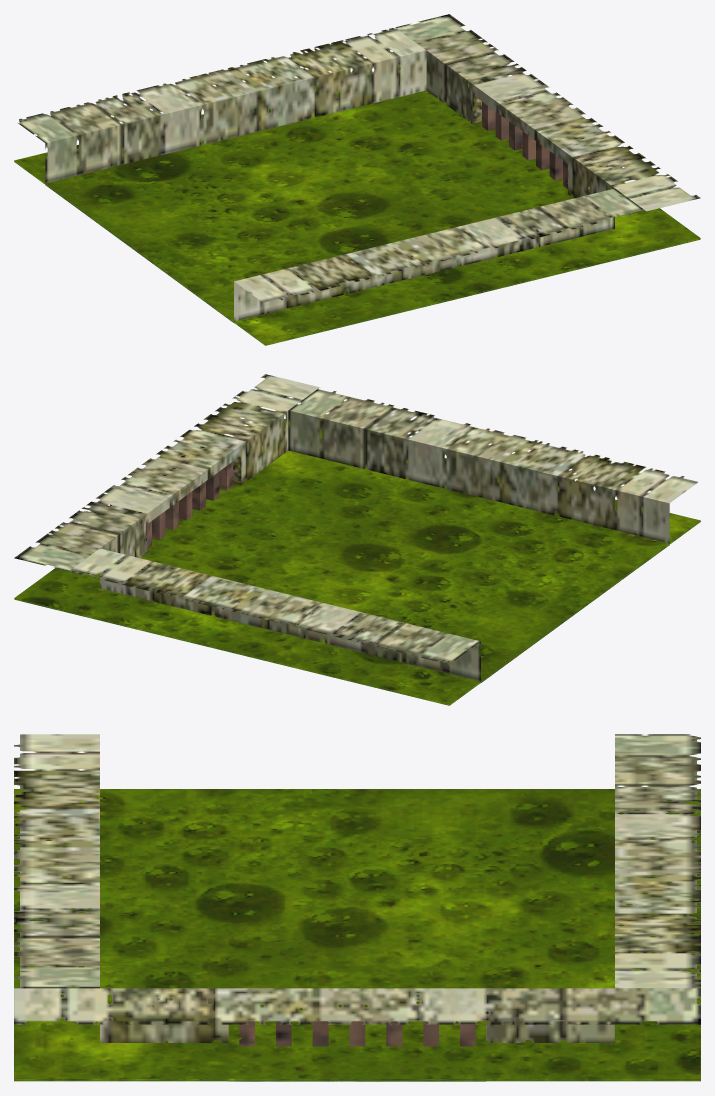
Rendered from sewerFloorEnd.fbx.
3 views of the same model, one above another, from view 1: azimuth 30°, elevation 25°; view 2: azimuth 150°, elevation 25°; view 3: azimuth 270°, elevation 25° (orthographic). The views are drawn at different scales.
Visible parts, largest first — view 1: waterPlaneC02, sewerFloorEnd, waterPlaneB02, waterPlaneA02; view 2: waterPlaneC02, sewerFloorEnd, waterPlaneB02, waterPlaneA02; view 3: waterPlaneC02, sewerFloorEnd, waterPlaneA02, waterPlaneB02.
Part boxes in pixels (x1,y1,x2,y2): waterPlaneC02: (14,66,700,344); sewerFloorEnd: (18,14,700,322); waterPlaneB02: (14,161,700,345); waterPlaneA02: (14,161,700,344); waterPlaneC02: (14,419,700,704); sewerFloorEnd: (14,374,697,682); waterPlaneB02: (14,521,700,705); waterPlaneA02: (14,521,700,704); waterPlaneC02: (14,789,700,1079); sewerFloorEnd: (14,734,700,1081); waterPlaneA02: (14,1079,700,1080); waterPlaneB02: (14,1080,700,1081).
Bounding box in the file's own units: 300 × 27.54 × 300.
Materials: 4 (4 with a texture image).
